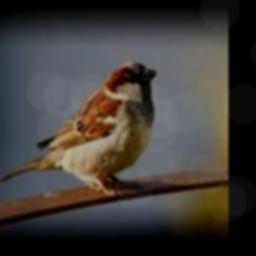Sparrow: (0, 62, 156, 195)
